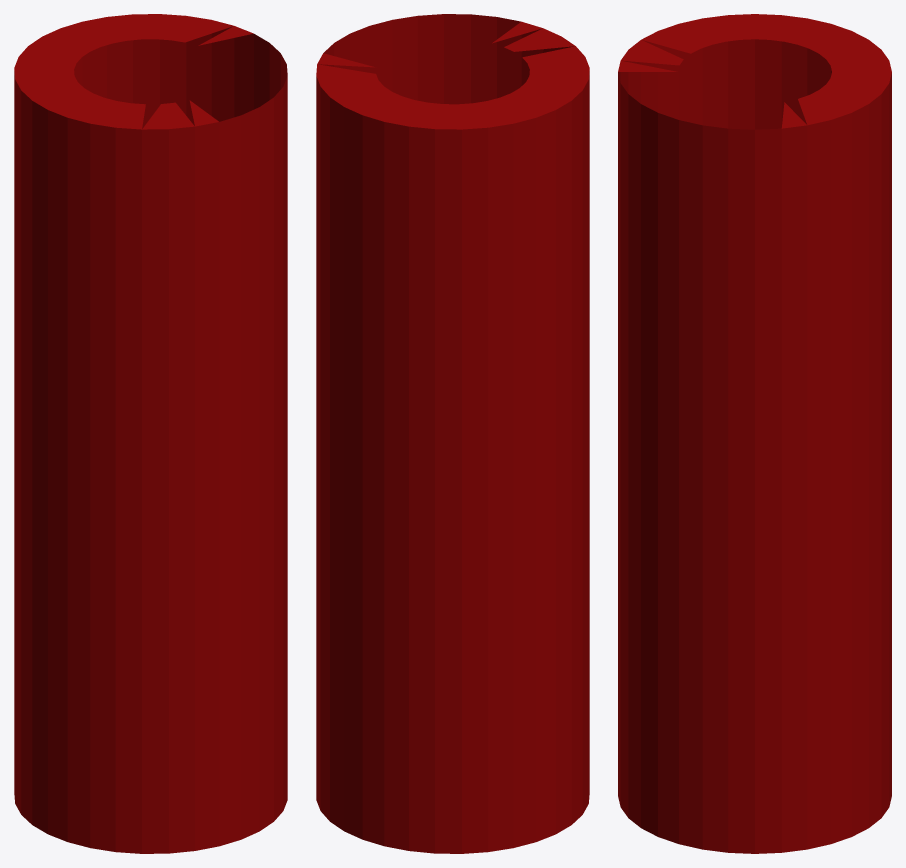
3 renders of one model, left to right at view 1: azimuth 30°, elevation 25°; view 2: azimuth 150°, elevation 25°; view 3: azimuth 270°, elevation 25°, orthographic.
Size of the model in its own units: 0.0762 by 0.2223 by 0.0762.
